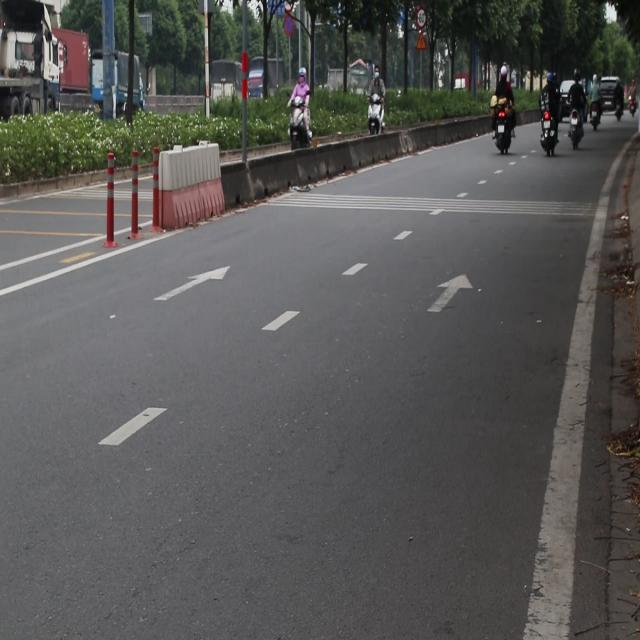car: (599, 78, 624, 119), (558, 73, 582, 106)
motorbike: (282, 94, 326, 166), (490, 91, 517, 156), (362, 96, 386, 148), (541, 108, 564, 156), (570, 119, 582, 156), (588, 102, 601, 133), (610, 93, 626, 116)
truck: (0, 17, 64, 116), (84, 48, 137, 124), (200, 49, 249, 124)
